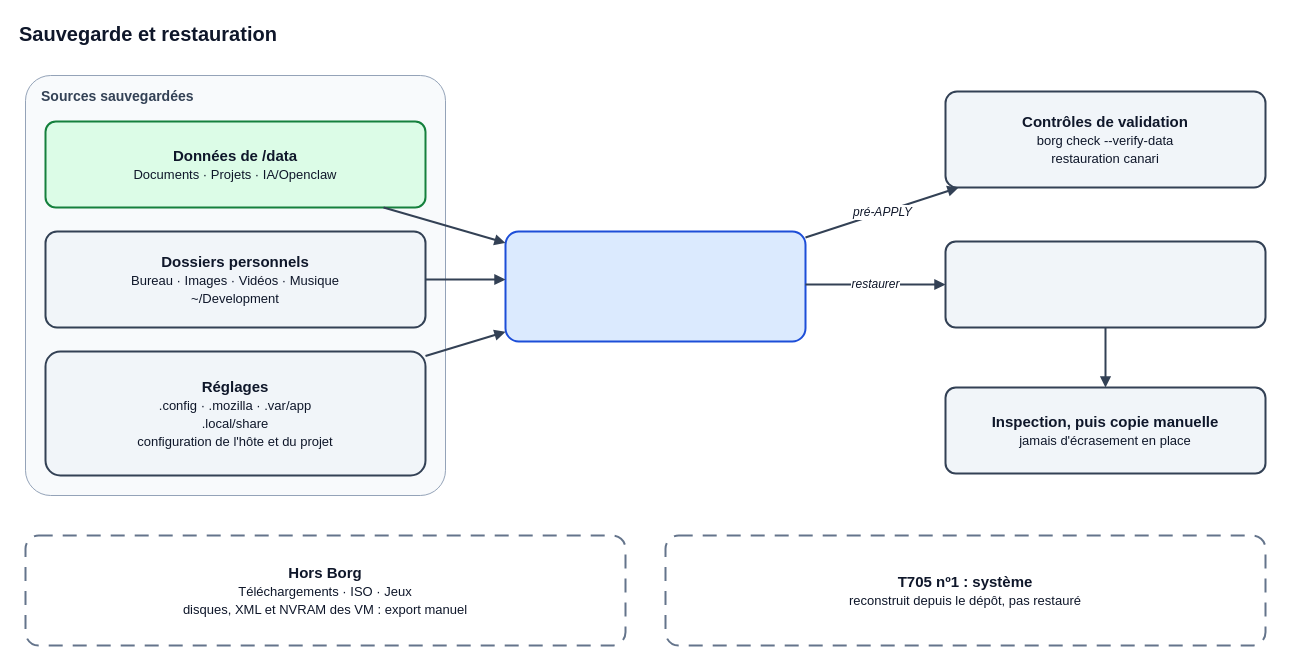
This 1290x663 diagram has some shape labels left out. The centre of each missing label's shape, as x and y in pixels:
"Dépôt Borg SSD externe Kingston XS1000 ext4 · non chiffré (ADR 0014)" belongs at (655,286).
"Restauration en staging ~/Restores/fedora-gnome-custom" belongs at (1105,284).
